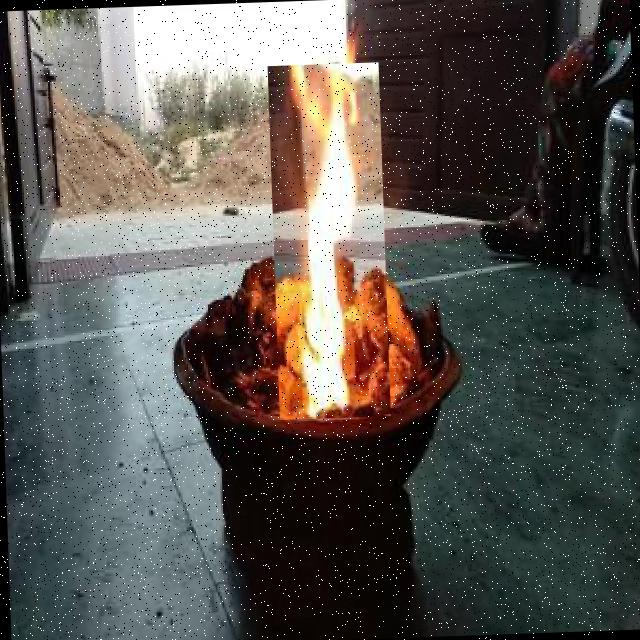fire: (267, 62, 390, 420)
